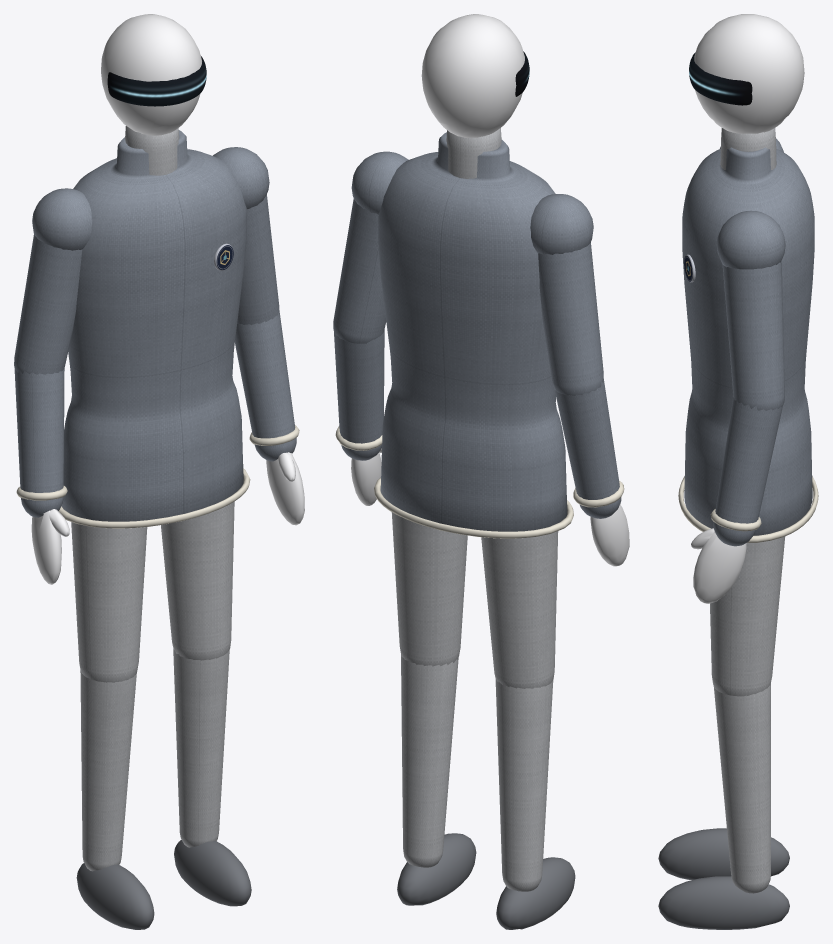
The model's file is specialist.lod1.glb.
3 views of the same model, side by side, from view 1: azimuth 30°, elevation 25°; view 2: azimuth 150°, elevation 25°; view 3: azimuth 270°, elevation 25° (orthographic).
Visible parts, largest first — view 1: Avatar · Specialist; view 2: Avatar · Specialist; view 3: Avatar · Specialist.
Part boxes in pixels (x1,y1,x2,y2): Avatar · Specialist: [14, 14, 304, 929]; Avatar · Specialist: [333, 14, 629, 929]; Avatar · Specialist: [658, 14, 818, 929].
Size of the model in its own units: 0.5976 by 1.8 by 0.2969.
7 materials, 4 textured.
